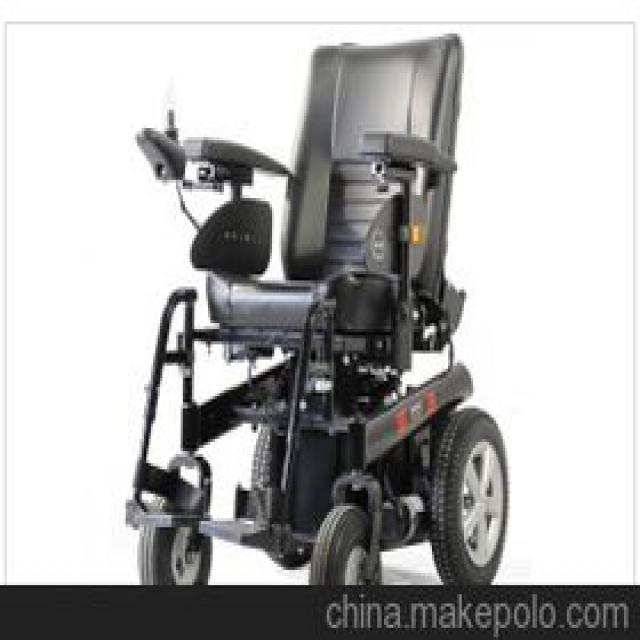wheelchair: (116, 28, 512, 582)
